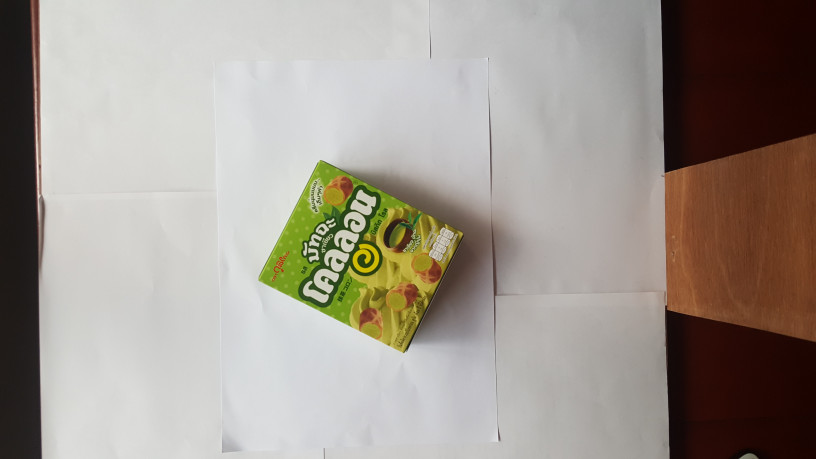collon-matcha: (259, 159, 465, 355)
